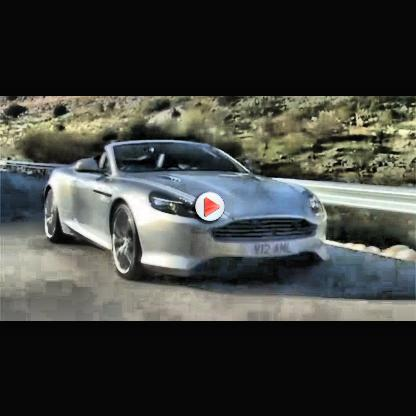Aston Martin Virage Convertible 2012: (44, 140, 331, 282)
